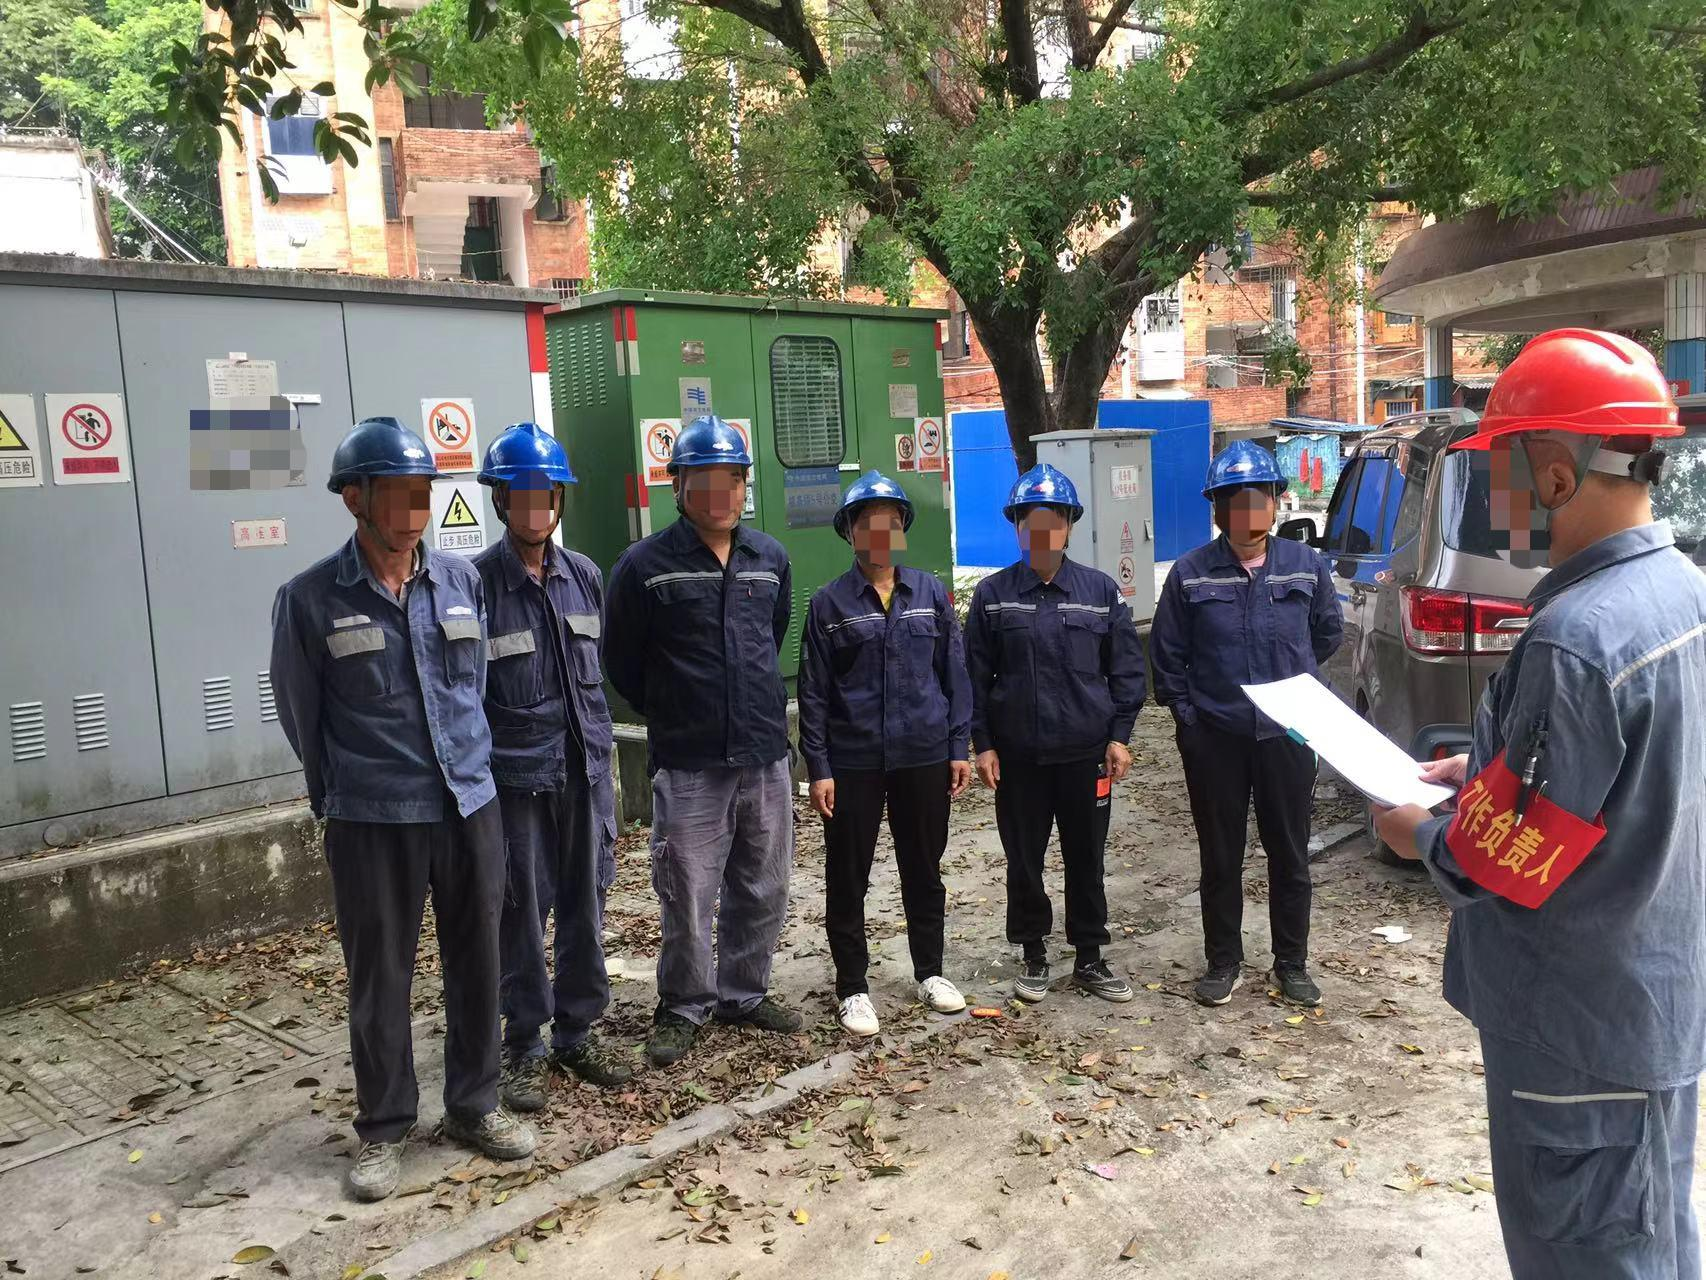halt: (1472, 332, 1687, 555), (329, 418, 444, 558), (483, 424, 583, 545), (669, 419, 758, 532), (1207, 442, 1295, 551), (1007, 467, 1090, 571), (838, 473, 917, 570)
inear: (1514, 432, 1602, 545), (340, 479, 378, 524), (489, 483, 516, 523)
